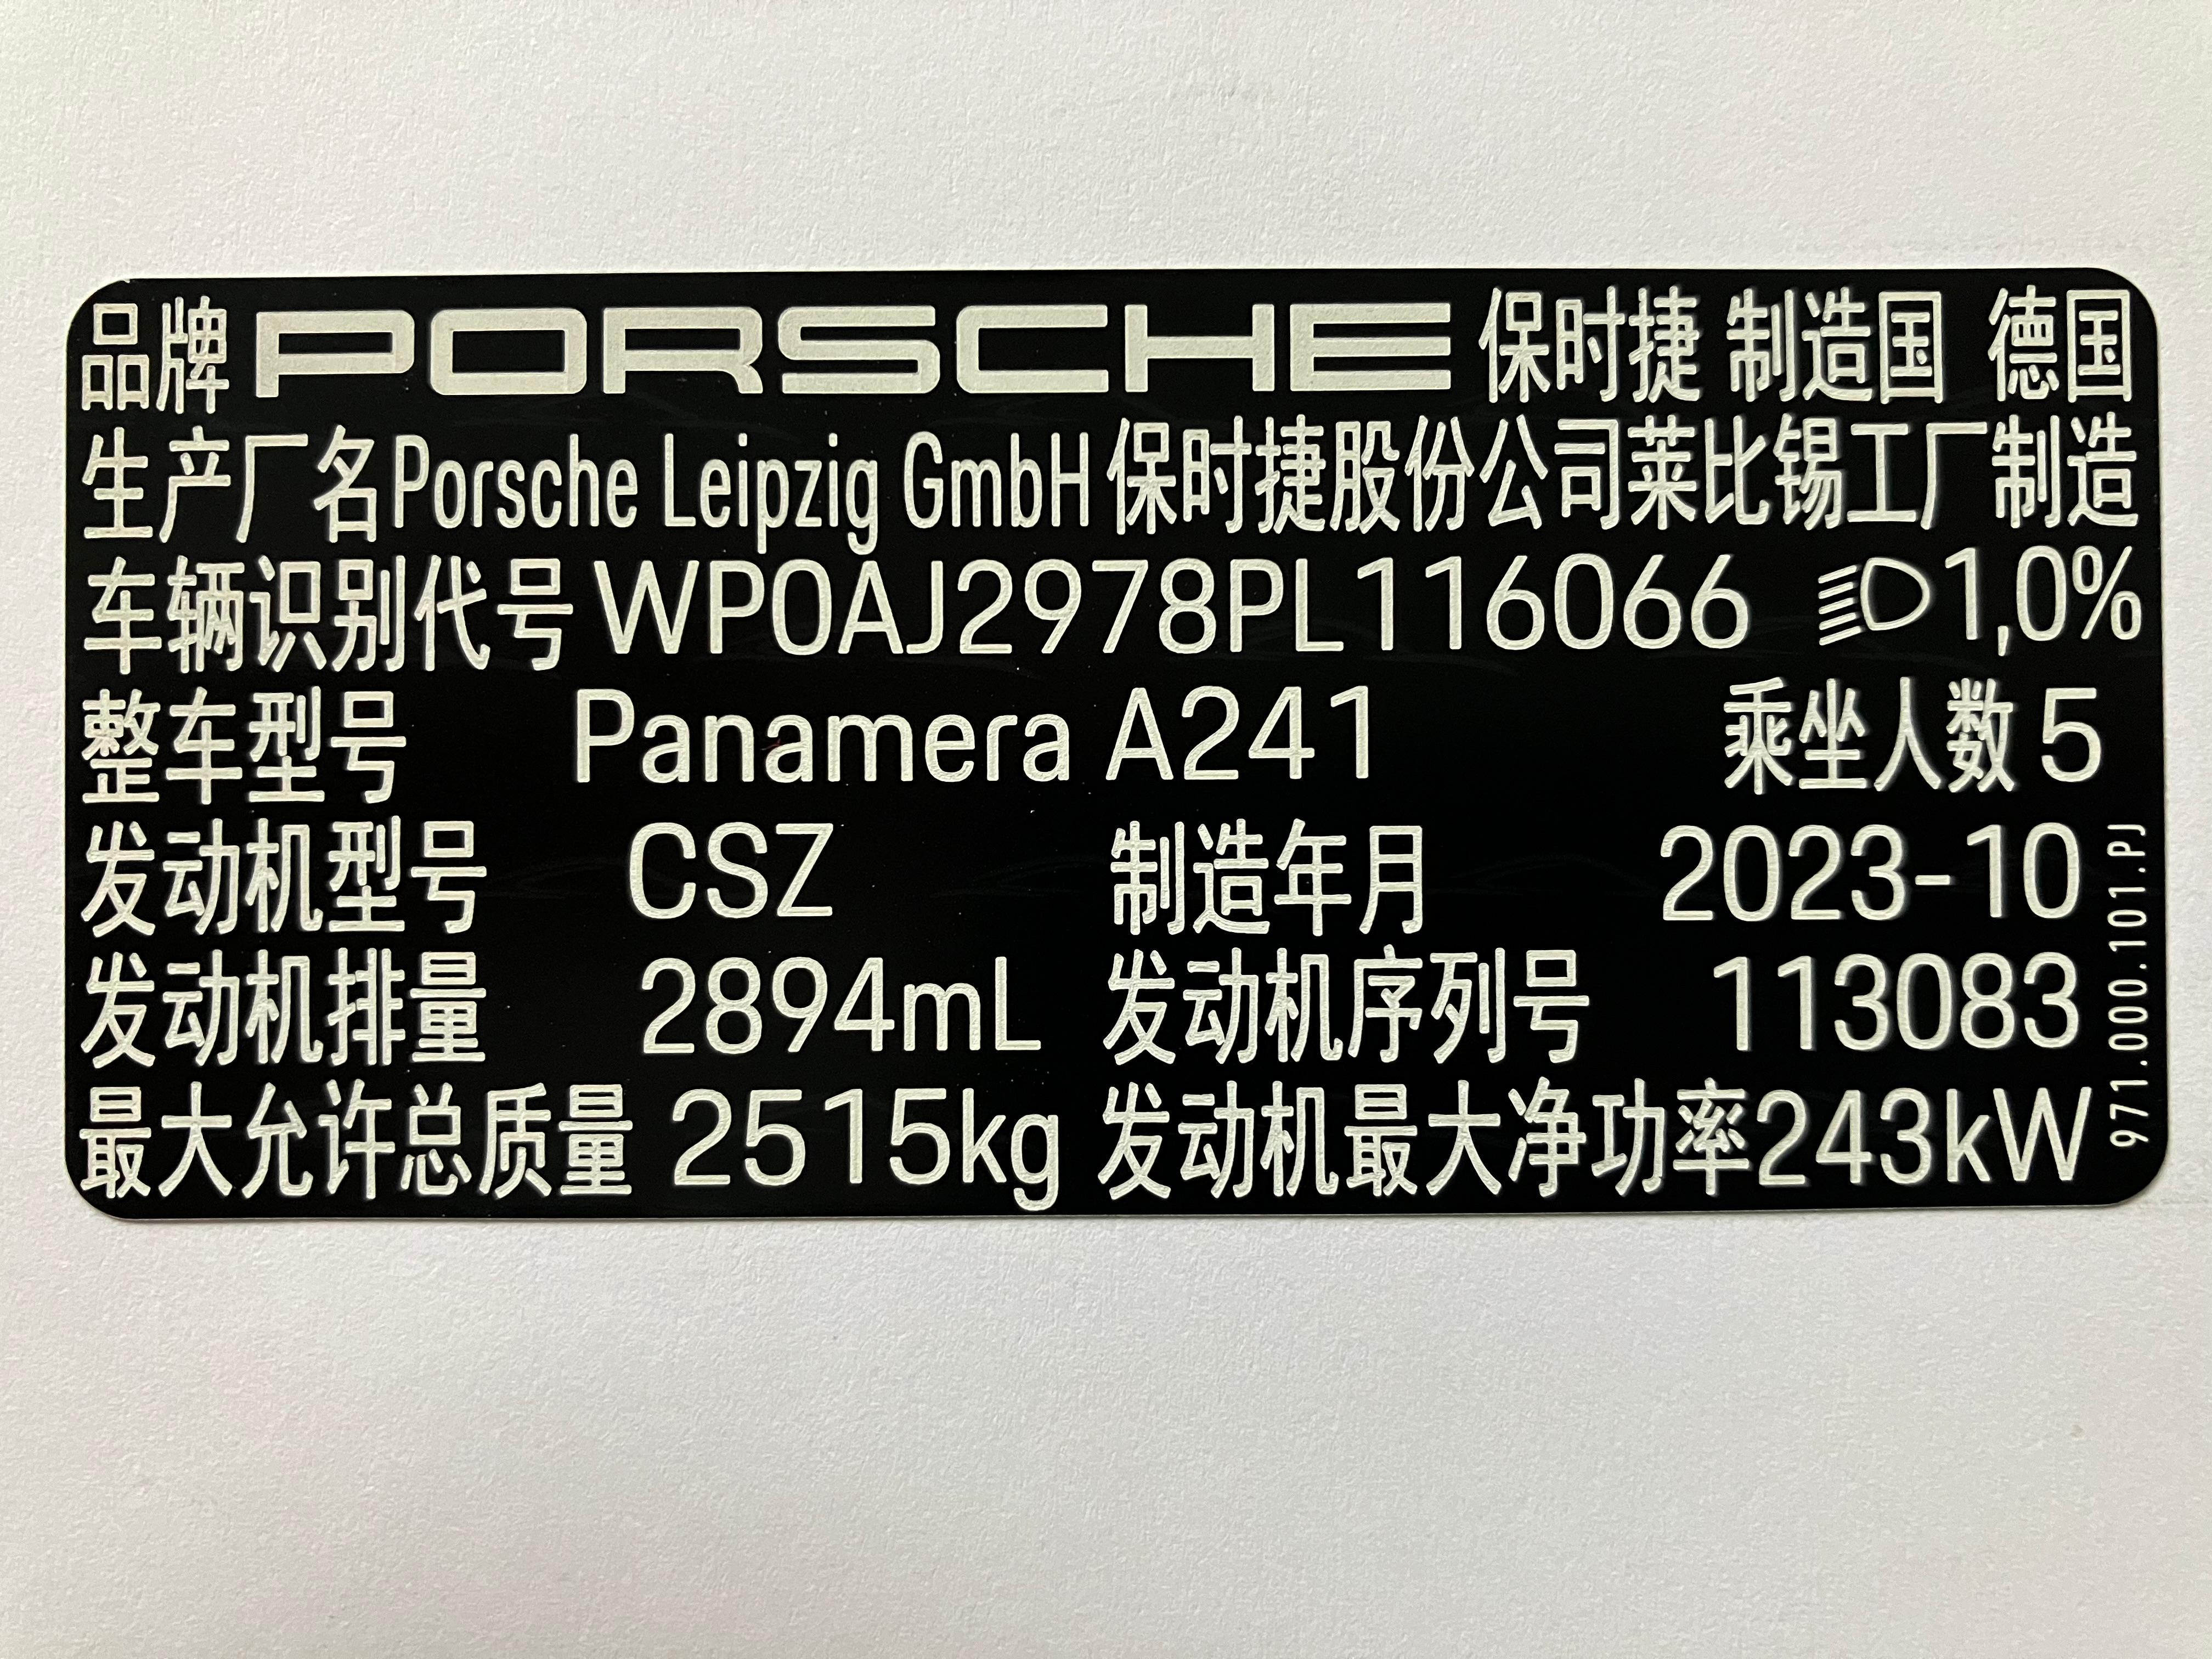Typlabel-China: (64, 267, 2168, 1220)
